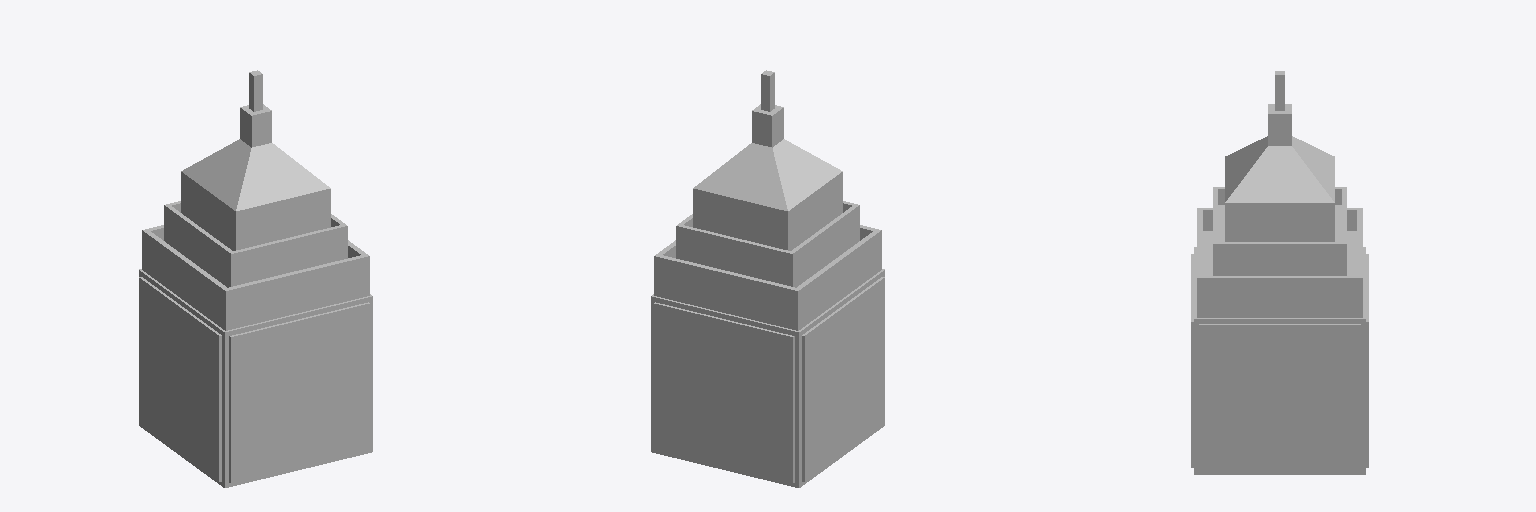
The model's file is building3.obj.
The picture shows the model from 3 angles: view 1: azimuth 30°, elevation 25°; view 2: azimuth 150°, elevation 25°; view 3: azimuth 270°, elevation 25°; orthographic projection.
Visible parts, largest first — view 1: polySurface9; view 2: polySurface9; view 3: polySurface9.
Part boxes in pixels (x1,y1,x2,y2): polySurface9: (139, 70, 372, 487); polySurface9: (651, 70, 884, 487); polySurface9: (1191, 71, 1368, 474).
Size of the model in its own units: 38.83 by 88.18 by 38.91.